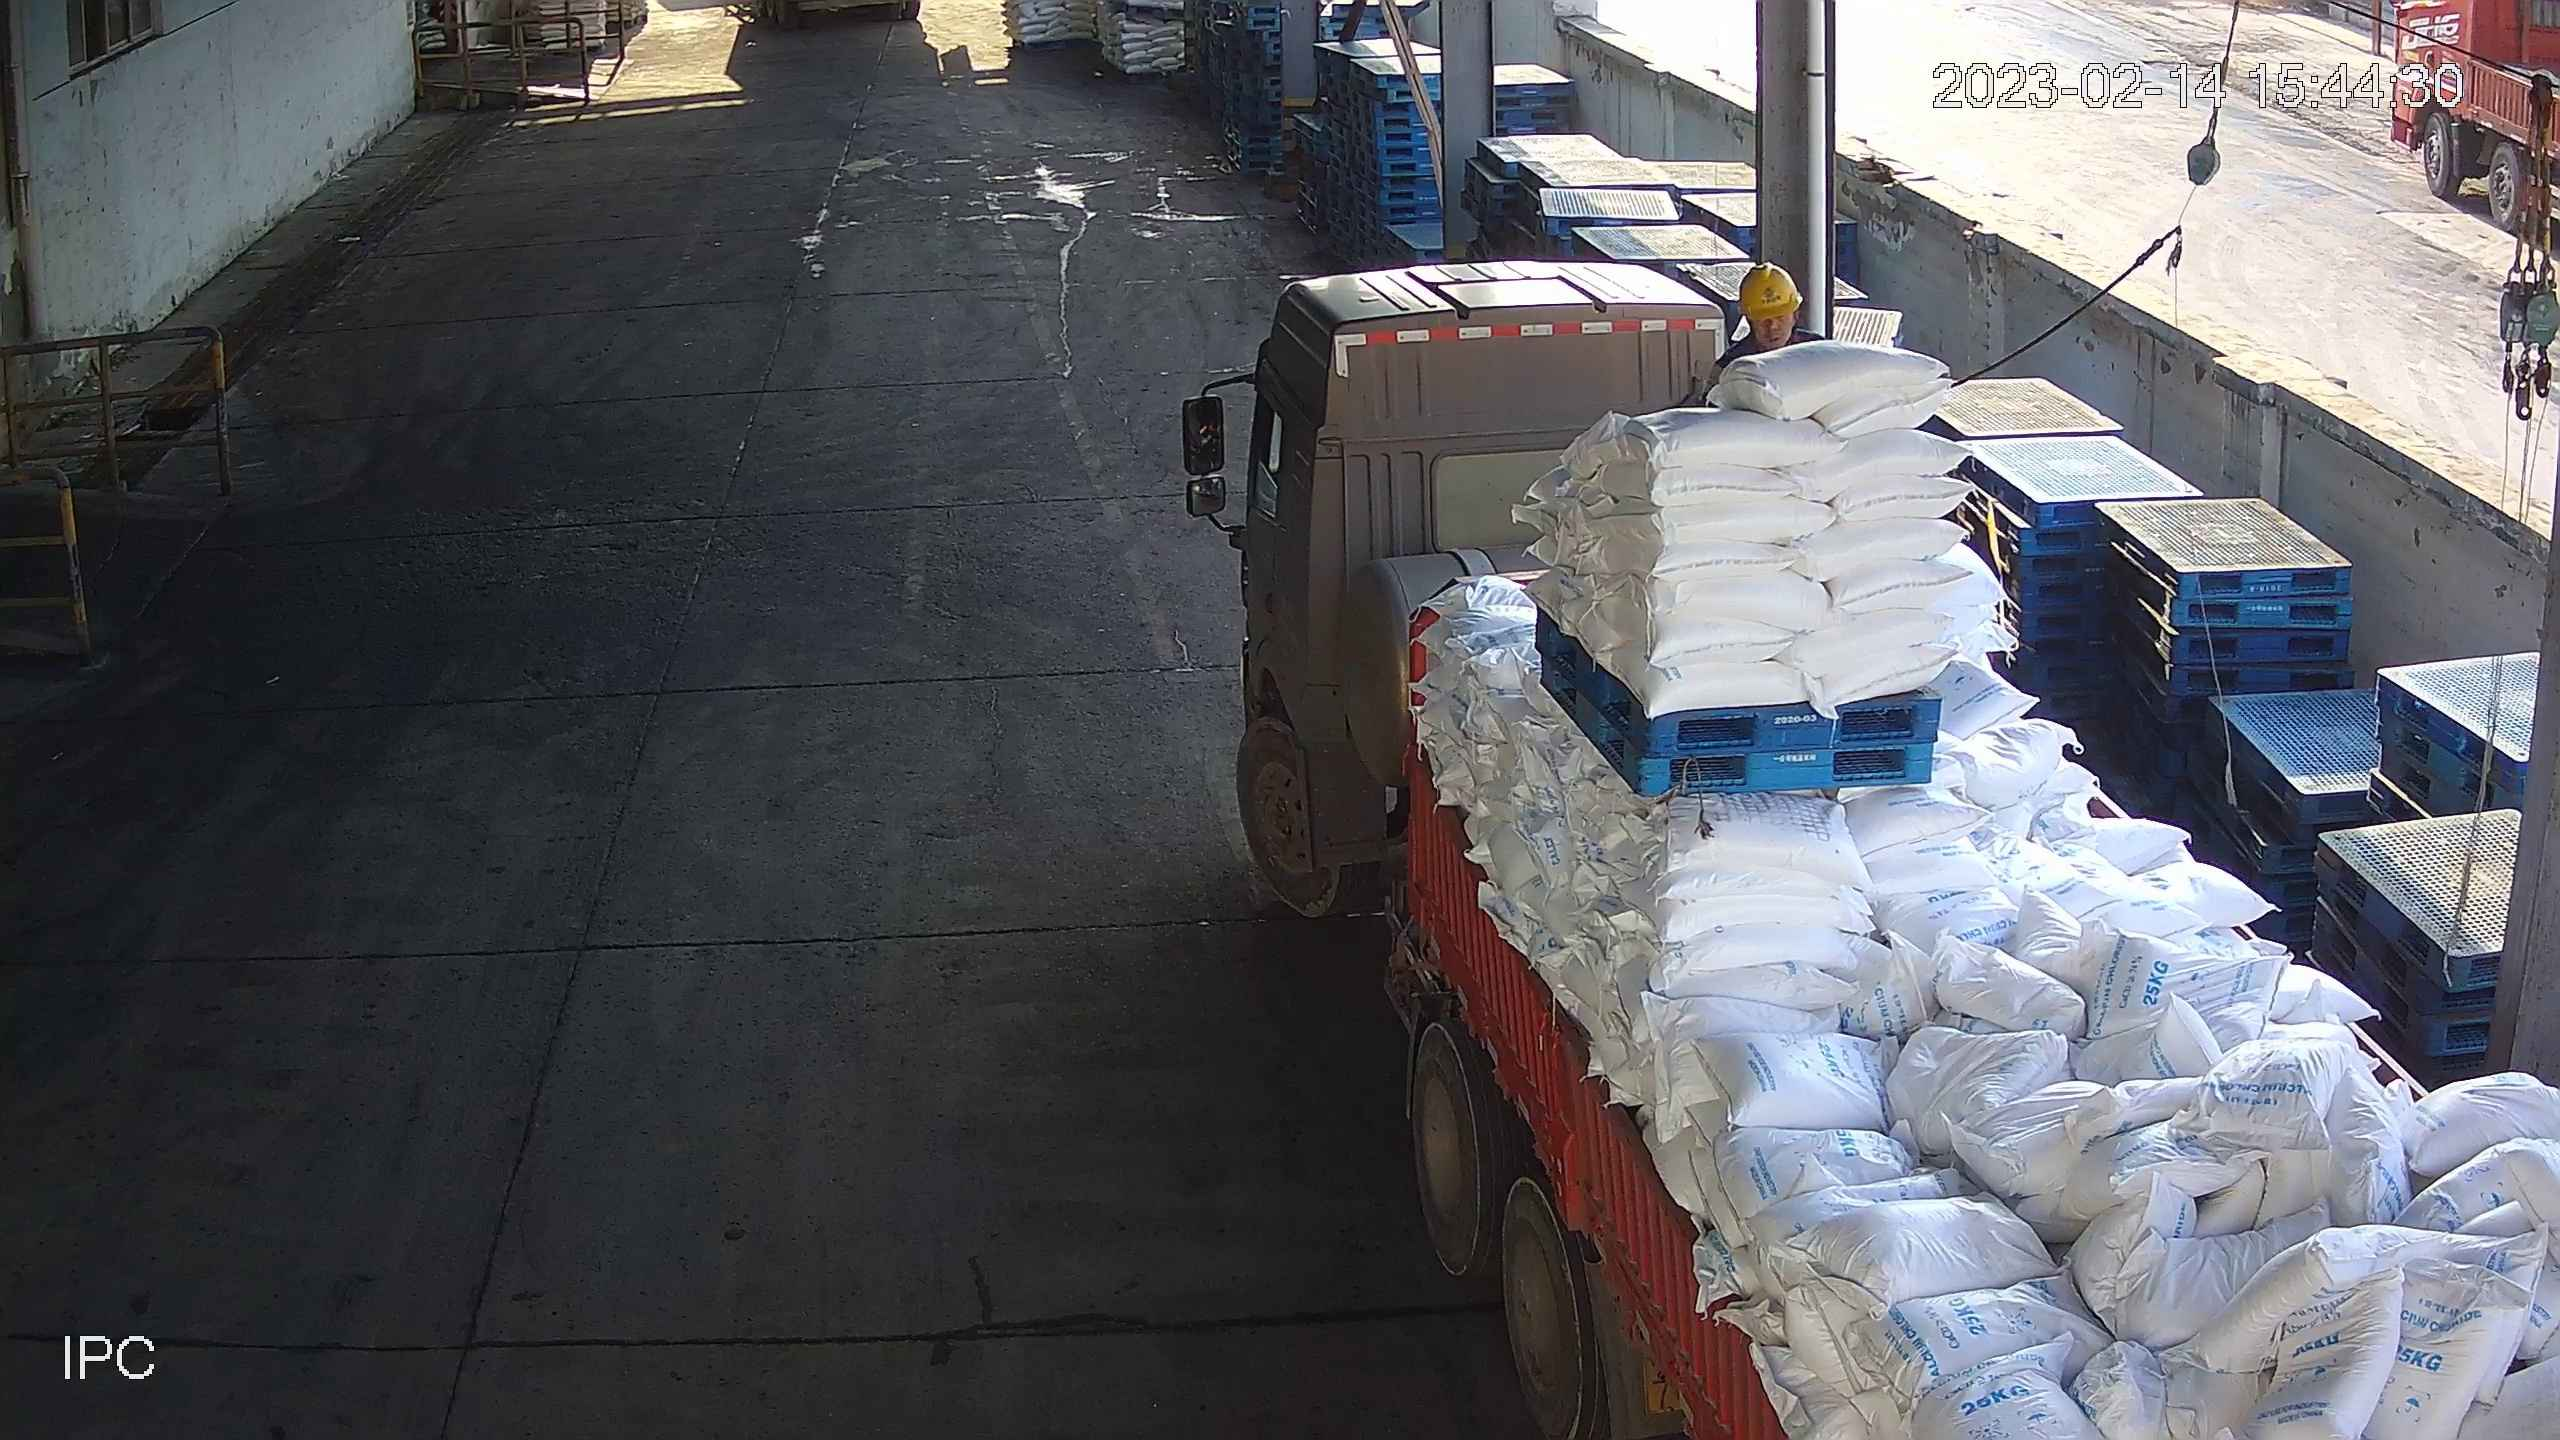helmet: (1735, 258, 1799, 325)
truck: (1196, 253, 2560, 1440)
